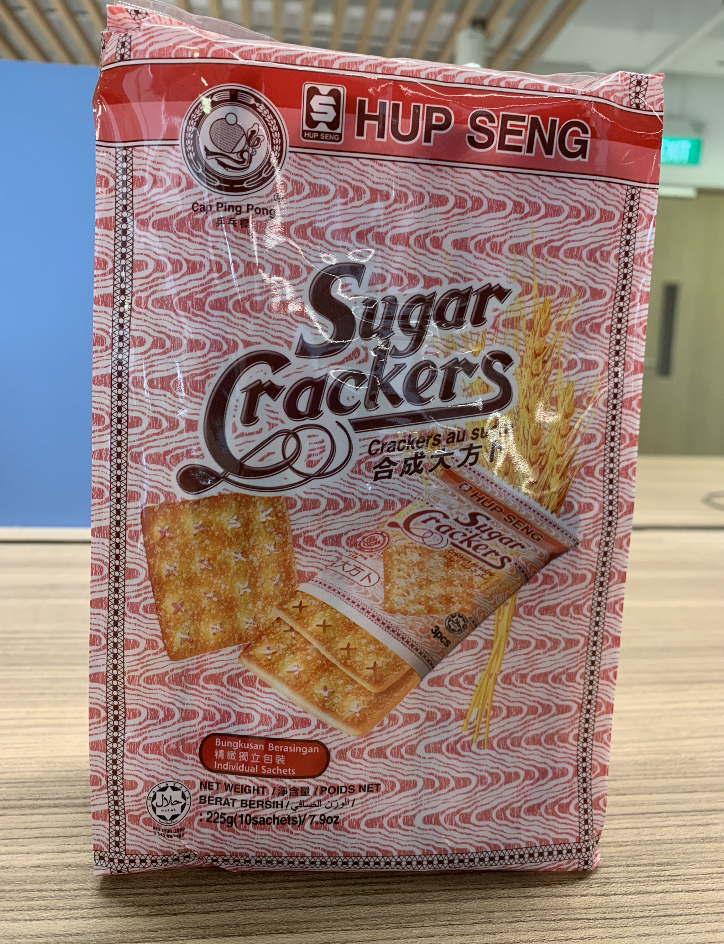crackers_200g-299g: (131, 83, 601, 838)
